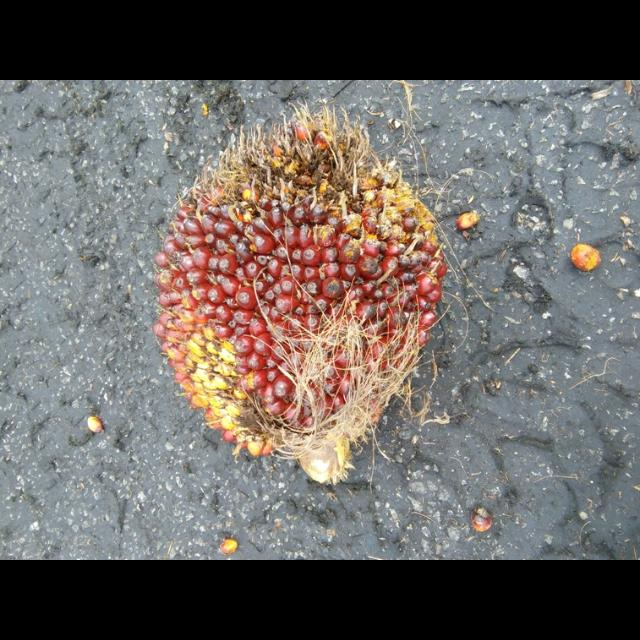Ripe: (153, 109, 446, 483)
